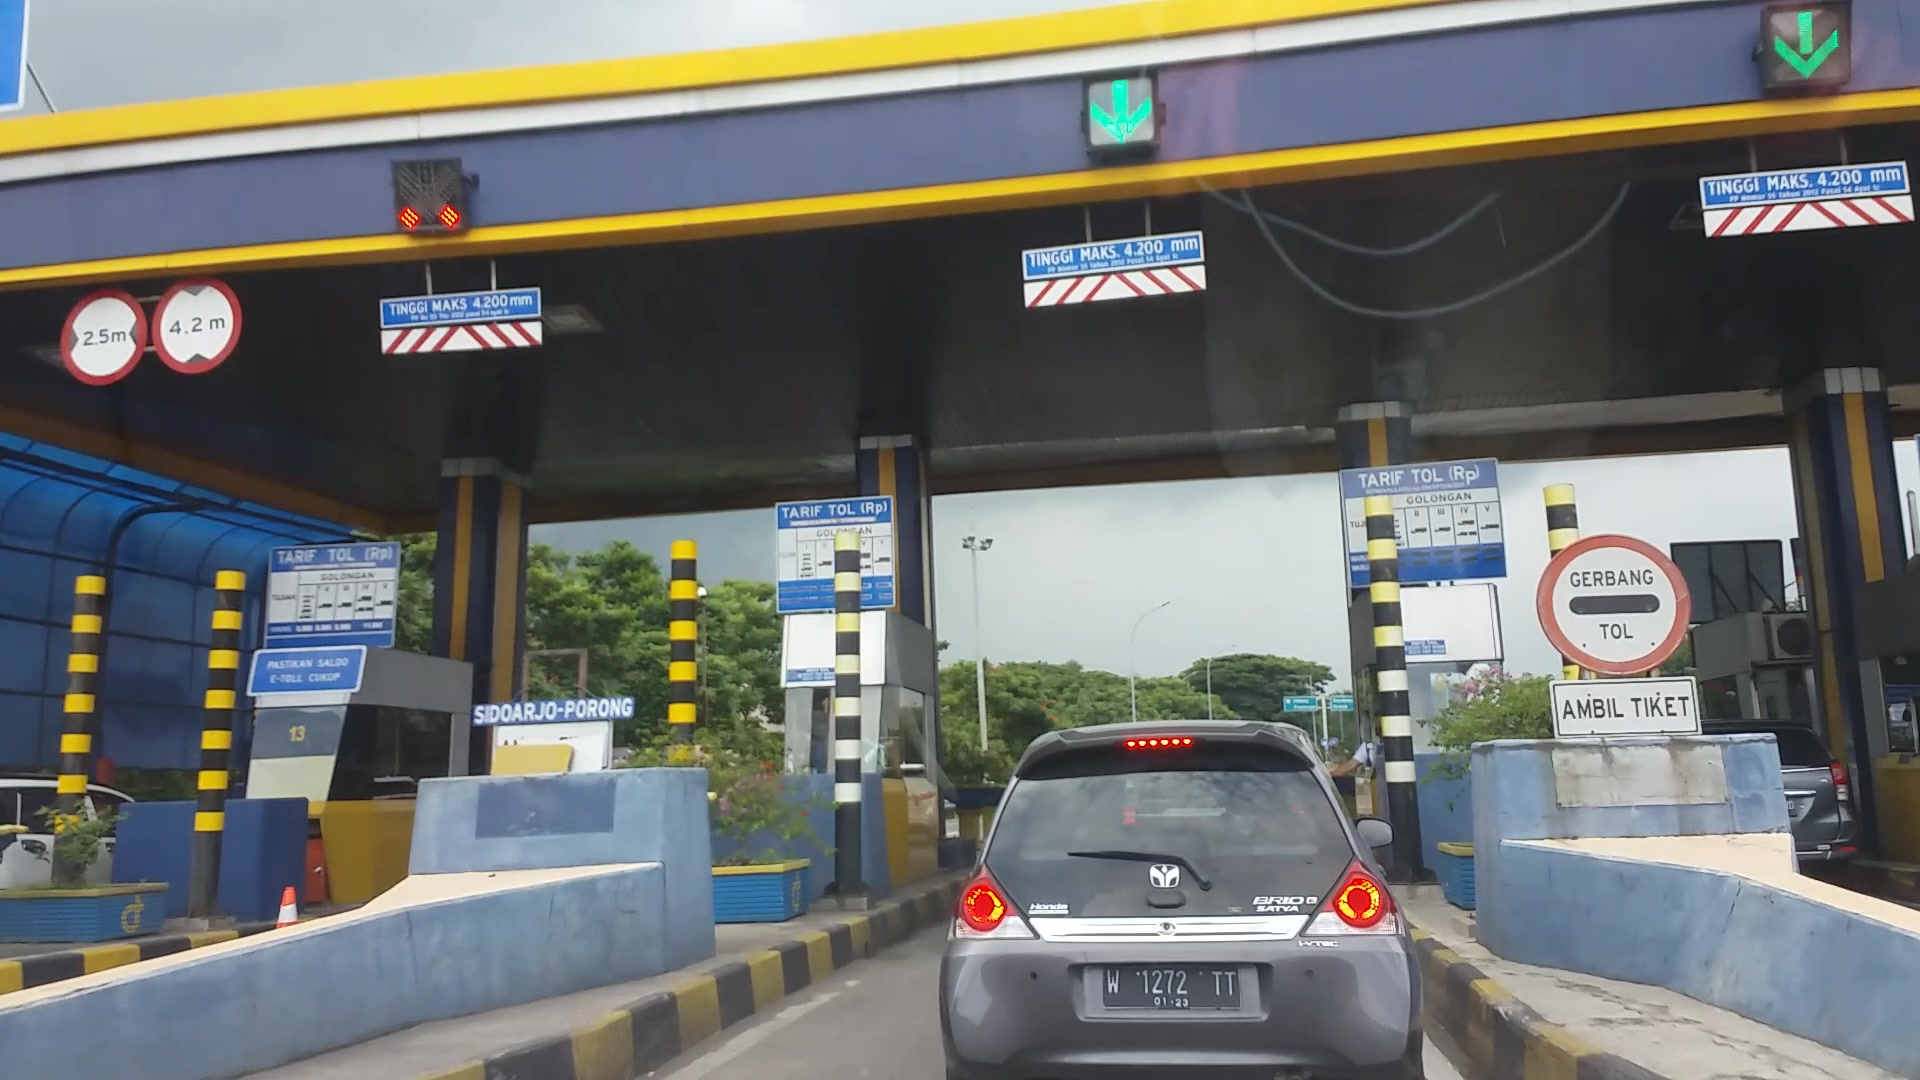plate_positive: (1102, 964, 1240, 1009)
